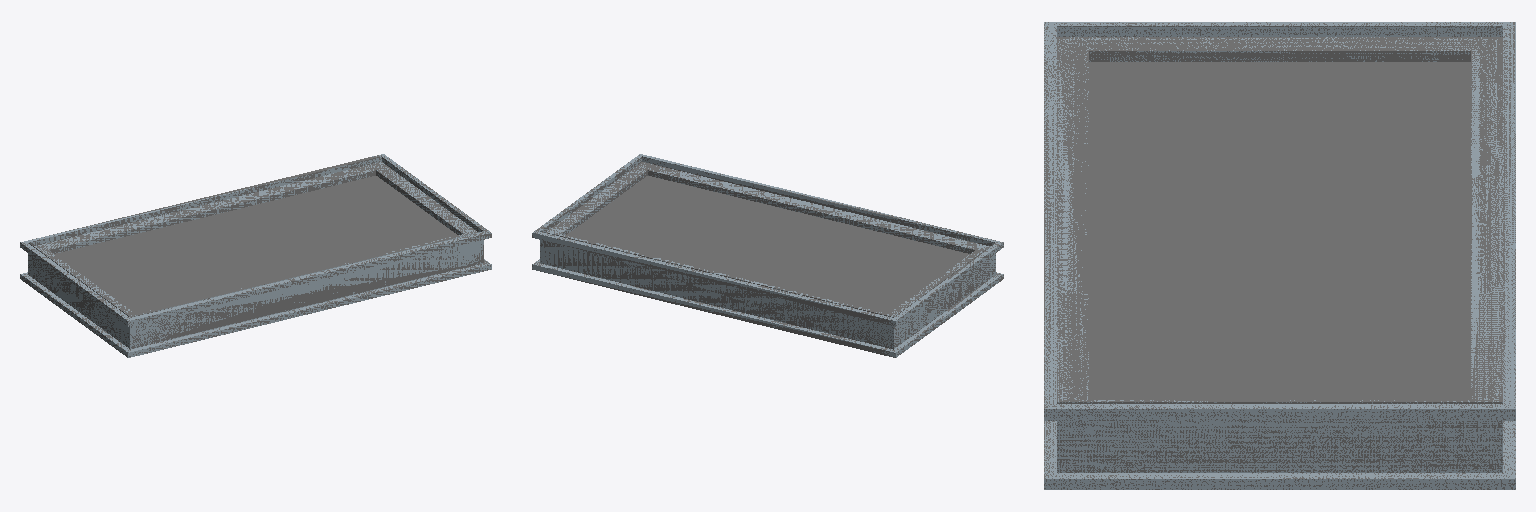
URDF robot description (window):
<?xml version="1.0" ?>
<robot name="window">
	<link name="base"/>
	<link name="link_0">
		<visual name="out-frame">
			<origin xyz="0 0 0"/>
			<geometry>
				<mesh filename="texture_dae/untitled.dae" scale="1 1 1"/>
			</geometry>
		</visual>
		<collision>
			<origin xyz="0 0 0"/>
			<geometry>
				<mesh filename="texture_dae/untitled.dae" scale="1 1 1"/>
			</geometry>
		</collision>
	</link>
	<joint name="joint_0" type="fixed">
		<origin rpy="1.570796326794897 0 -1.570796326794897" xyz="0 0 0"/>
		<child link="link_0"/>
		<parent link="base"/>
	</joint>
	<link name="link_1">
		<visual name="surf-board">
			<origin xyz="0.3491137126836251 -0.647580471711553 0"/>
			<geometry>
				<mesh filename="texture_dae/untitled1.dae" scale="1 1 1"/>
			</geometry>
		</visual>
		<collision>
			<origin xyz="0.3491137126836251 -0.647580471711553 0"/>
			<geometry>
				<mesh filename="texture_dae/untitled1.dae" scale="1 1 1"/>
			</geometry>
		</collision>
	</link>
	<joint name="joint_1" type="revolute">
		<origin xyz="-0.3491137126836251 0.647580471711553 0"/>
		<axis xyz="0 -1 0"/>
		<child link="link_1"/>
		<parent link="link_0"/>
		<limit lower="0" upper="1.5079644737231006"/>
	</joint>
	<link name="link_2">
		<visual name="handle">
			<origin xyz="0 0 0"/>
			<geometry>
				<mesh filename="texture_dae/9969502-handle.dae" scale="1.2183342221455222 1.2183342221455222 1.2183342221455222"/>
			</geometry>
		</visual>
		<collision>
			<origin xyz="0 0 0"/>
			<geometry>
				<mesh filename="texture_dae/9969502-handle.dae" scale="1.2183342221455222 1.2183342221455222 1.2183342221455222"/>
			</geometry>
		</collision>
	</link>
	<joint name="joint_2" type="revolute">
		<origin xyz="0 0 0"/>
		<child link="link_2"/>
		<parent link="link_3"/>
		<axis xyz="0 0 1"/>
		<limit lower="0" upper="1.5079644737231006"/>
	</joint>
	<link name="link_3">
		<visual name="lock">
			<origin xyz="0 0 0"/>
			<geometry>
				<mesh filename="texture_dae/9969502-lock.dae" scale="1.2183342221455222 1.2183342221455222 1.2183342221455222"/>
			</geometry>
		</visual>
		<collision>
			<origin xyz="0 0 0"/>
			<geometry>
				<mesh filename="texture_dae/9969502-lock.dae" scale="1.2183342221455222 1.2183342221455222 1.2183342221455222"/>
			</geometry>
		</collision>
	</link>
	<joint name="joint_3" type="fixed">
		<origin xyz="0.6700001089138294 -0.647580471711553 0.07144714927756751"/>
		<child link="link_3"/>
		<parent link="link_1"/>
	</joint>
</robot>

--- Render facts (derived) ---
The picture shows the robot from 3 angles, left to right: view 1: azimuth 30°, elevation 25°; view 2: azimuth 150°, elevation 25°; view 3: azimuth 270°, elevation 25°; orthographic projection.
Model window with 5 links and 4 joints (2 revolute, 2 fixed), rooted at base, posed all joints at 0.
Links seen in each view (by area): view 1: link_1, link_0; view 2: link_1, link_0; view 3: link_1, link_0.
Boxes of the visible links, x1,y1,x2,y2 form: link_1: (28, 156, 483, 349); link_0: (20, 154, 491, 357); link_1: (540, 156, 995, 348); link_0: (532, 154, 1003, 357); link_1: (1057, 26, 1502, 472); link_0: (1044, 22, 1515, 489).
Bounding box of the posed robot: 1.44 × 0.74 × 0.1426 m (x, y, z).
Meshes: 4 distinct files referenced, 4 mesh visuals loaded (4 Collada DAE).
